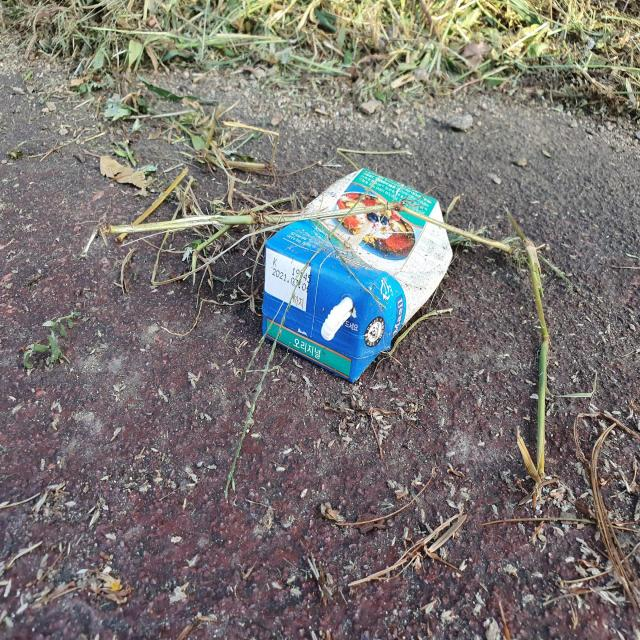paperpack: (262, 168, 453, 381)
